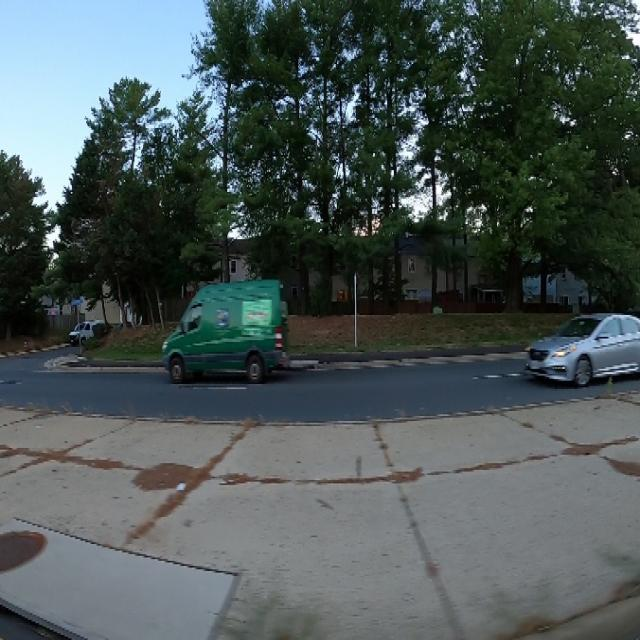car: (154, 270, 299, 386), (524, 296, 640, 401)
